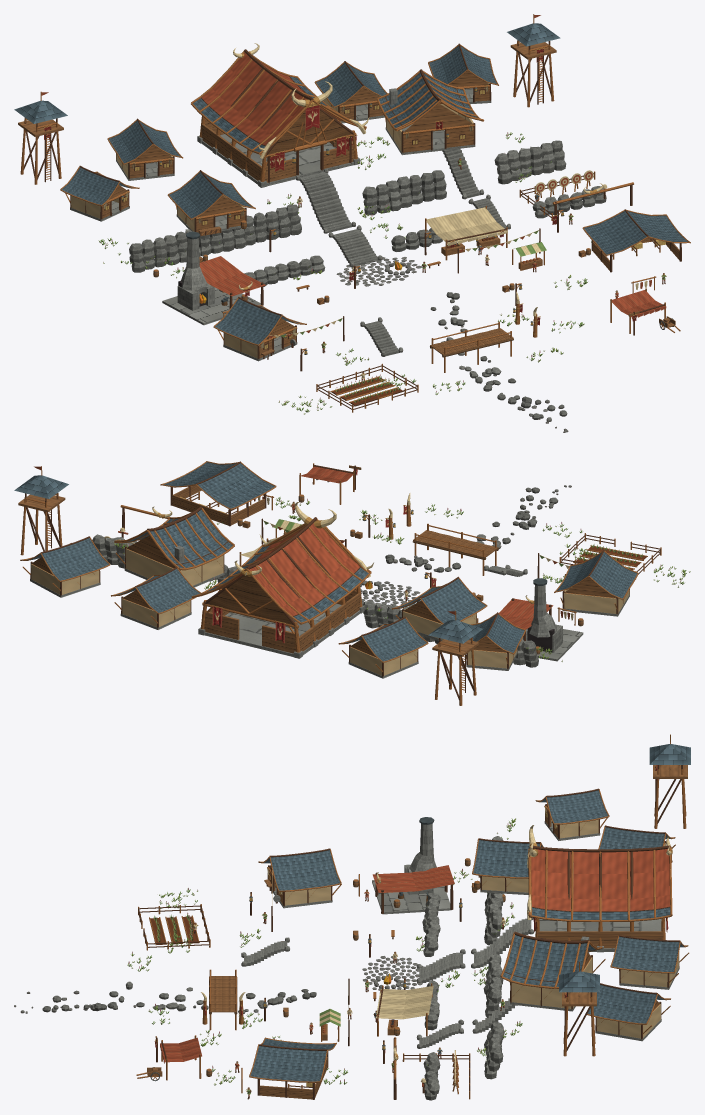
Rendered from phase_4.glb.
3 views of the same model, one above another, from view 1: azimuth 30°, elevation 25°; view 2: azimuth 150°, elevation 25°; view 3: azimuth 270°, elevation 25° (orthographic). The views are drawn at different scales.
Parts seen in each view (by area): view 1: Praca_pontes_escadas_F4, hall_F4, tavern_F4, forge_F4, store_F4, workshop_F4, stable_F4, house_a_F4, house_c_F4, house_b_F4, house_d_F4, market_F4 (+5 smaller); view 2: hall_F4, Praca_pontes_escadas_F4, tavern_F4, stable_F4, workshop_F4, house_d_F4, house_c_F4, house_a_F4, store_F4, forge_F4, house_b_F4, tower_F4 (+3 smaller); view 3: Praca_pontes_escadas_F4, hall_F4, tavern_F4, forge_F4, stable_F4, workshop_F4, house_d_F4, house_c_F4, store_F4, house_b_F4, tower_e_F4, tower_F4 (+6 smaller).
Boxes of the visible parts, box(x1,y1,x2,y2) form: Praca_pontes_escadas_F4: box(98, 132, 656, 432); hall_F4: box(191, 43, 369, 187); tavern_F4: box(377, 69, 484, 155); forge_F4: box(162, 231, 265, 325); store_F4: box(167, 170, 255, 236); workshop_F4: box(213, 297, 306, 361); stable_F4: box(582, 209, 690, 272); house_a_F4: box(107, 118, 183, 180); house_c_F4: box(314, 61, 387, 123); house_b_F4: box(60, 165, 139, 221); house_d_F4: box(428, 43, 498, 104); market_F4: box(425, 206, 507, 260); hall_F4: box(191, 502, 373, 658); Praca_pontes_escadas_F4: box(92, 485, 690, 667); tavern_F4: box(114, 506, 234, 587); stable_F4: box(160, 461, 276, 526); workshop_F4: box(554, 550, 638, 616); house_d_F4: box(20, 536, 110, 597); house_c_F4: box(111, 567, 200, 629); house_a_F4: box(338, 616, 428, 678); store_F4: box(391, 576, 487, 640); forge_F4: box(499, 578, 583, 661); house_b_F4: box(466, 612, 525, 670); tower_F4: box(428, 610, 482, 705); Praca_pontes_escadas_F4: box(14, 818, 537, 1100); hall_F4: box(527, 825, 672, 952); tavern_F4: box(500, 931, 605, 1011); forge_F4: box(372, 817, 454, 914); stable_F4: box(249, 1037, 336, 1099); workshop_F4: box(258, 848, 341, 908); house_d_F4: box(587, 983, 670, 1041); house_c_F4: box(610, 935, 689, 989); store_F4: box(472, 838, 547, 894); house_b_F4: box(535, 788, 609, 840); tower_e_F4: box(559, 962, 599, 1056); tower_F4: box(649, 734, 690, 828).
Bounding box in the file's own units: 83.68 × 27.73 × 96.88.
Materials: 1 (1 with a texture image).
